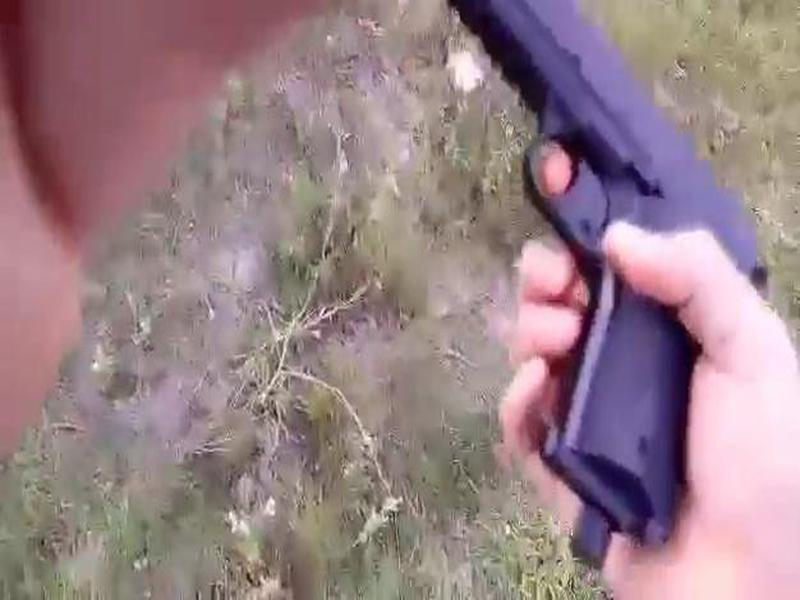Pistola: (324, 1, 779, 576)
